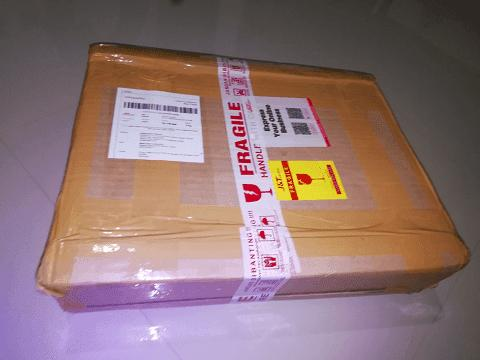undamaged: (28, 47, 474, 328)
